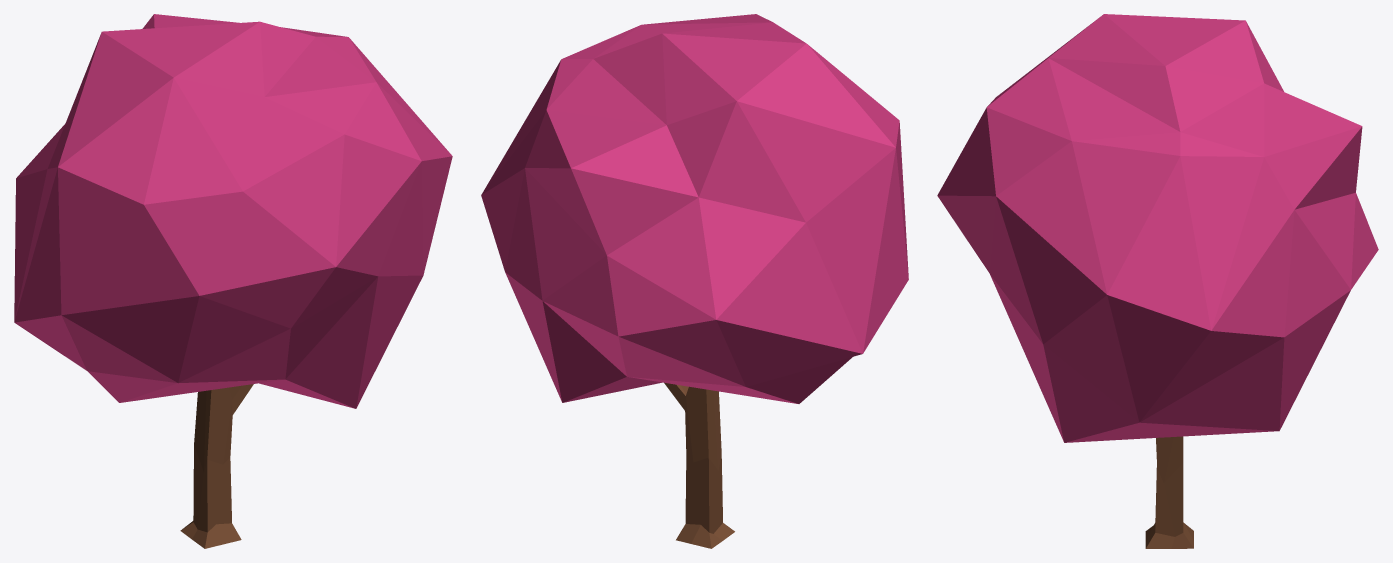
Rendered from Tree_13_Pink.fbx.
The picture shows the model from 3 angles, left to right: view 1: azimuth 30°, elevation 25°; view 2: azimuth 150°, elevation 25°; view 3: azimuth 270°, elevation 25°; orthographic projection. The views are drawn at different scales.
Visible parts, largest first — view 1: Tree_13_Pink_Part_1, Tree_13_Pink_Part_2; view 2: Tree_13_Pink_Part_1, Tree_13_Pink_Part_2; view 3: Tree_13_Pink_Part_1, Tree_13_Pink_Part_2.
Boxes of the visible parts, x1,y1,x2,y2 form: Tree_13_Pink_Part_1: (14,14,452,408); Tree_13_Pink_Part_2: (180,384,253,548); Tree_13_Pink_Part_1: (481,14,908,403); Tree_13_Pink_Part_2: (664,382,734,548); Tree_13_Pink_Part_1: (937,14,1378,442); Tree_13_Pink_Part_2: (1145,436,1193,548).
Bounding box in the file's own units: 643 × 796 × 641.
